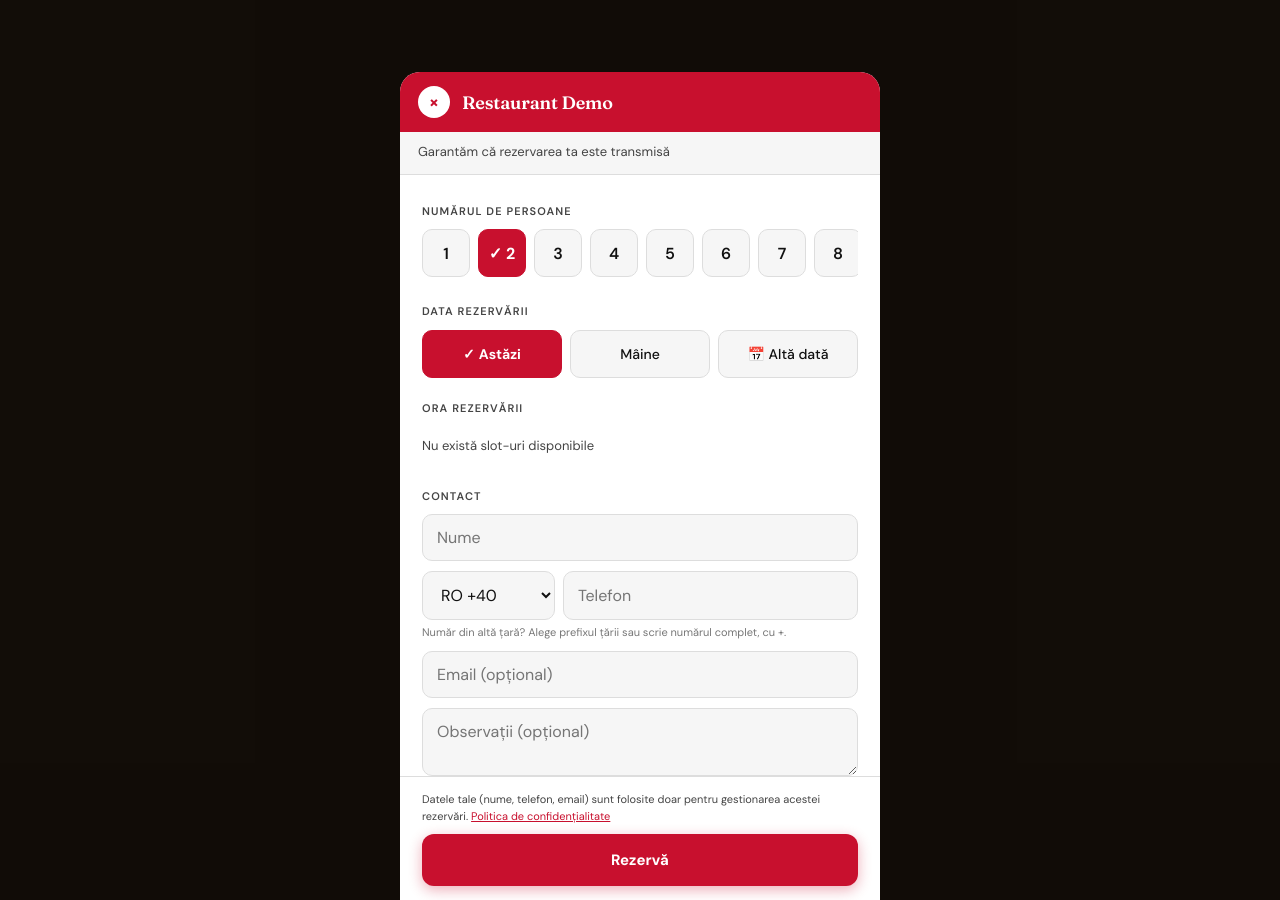
Test: ReservationSheet — selecție și eroare accesibile › RS-K chip-urile expun starea (aria-pressed) și o bifă, nu doar culoare
Expected: the button "✓ 2" is shown, [478,229,526,277]
Expected: the button "3" does not show "✓"
Click the button "3".
click(558, 253)  # box [534,229,582,277]
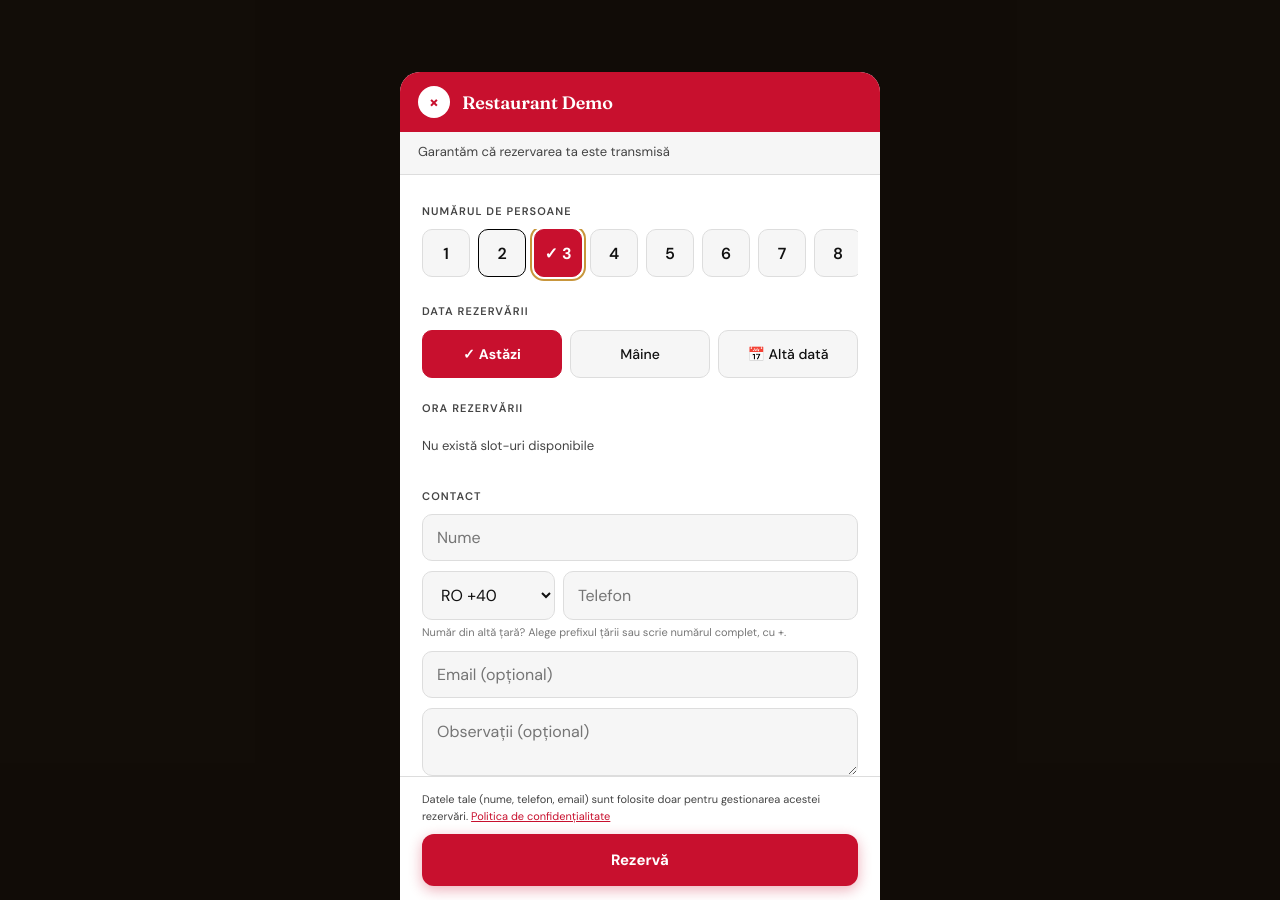
Expected: the element named "persoane" is shown, [422,229,858,281]
Result: the button "✓ 3" is shown at [534,229,582,277]
